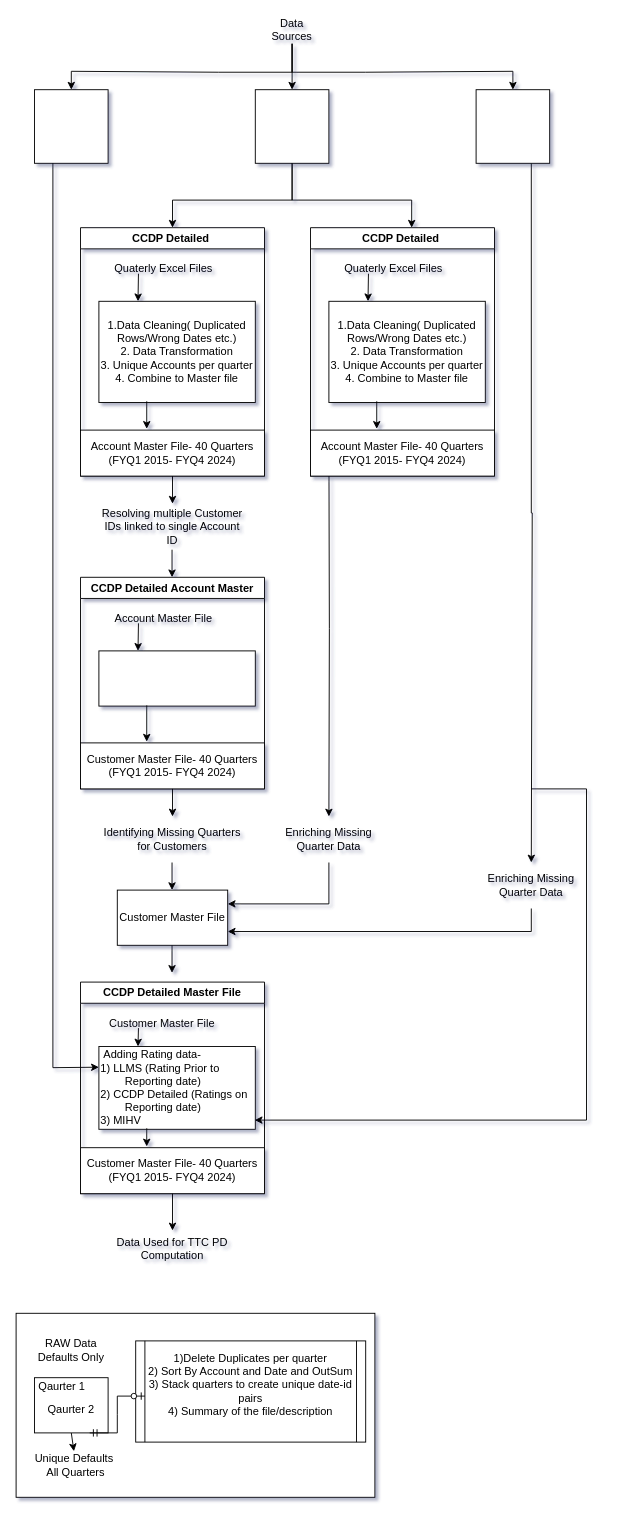
Image size: 617x1519. Some labels were removed from this diagram. Here are the shapes that lost their labels. From the top down, the centre of each, then its label:
At pixel 71 126: "LLMS".
At pixel 291 126: "CCDP".
At pixel 512 126: "MIHV".
At pixel 176 678: "Aggregation from Account to Customer".
